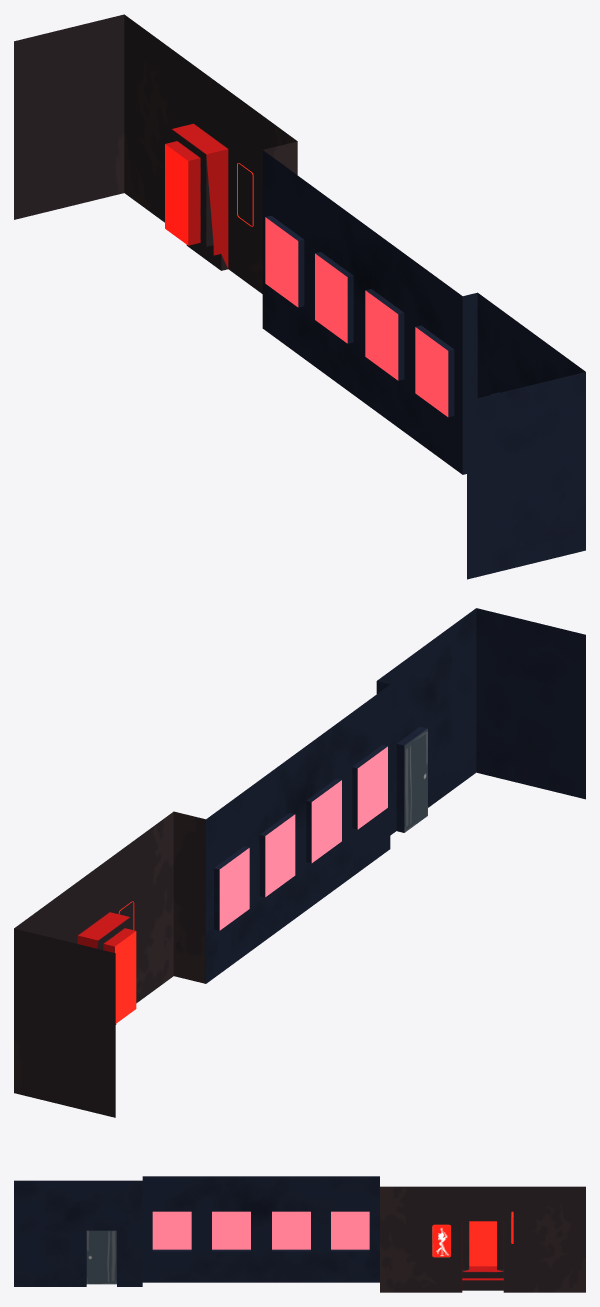
3 views of the same model, one above another, from view 1: azimuth 30°, elevation 25°; view 2: azimuth 150°, elevation 25°; view 3: azimuth 270°, elevation 25° (orthographic). The views are drawn at different scales.
Parts seen in each view (by area): view 1: buildings_tile_Bb, luces_tile_Bb; view 2: buildings_tile_Bb, luces_tile_Bb; view 3: buildings_tile_Bb, luces_tile_Bb.
Boxes of the visible parts, <box> form: buildings_tile_Bb: <box>14,14,585,579</box>; luces_tile_Bb: <box>165,144,448,416</box>; buildings_tile_Bb: <box>14,608,585,1117</box>; luces_tile_Bb: <box>115,746,387,1023</box>; buildings_tile_Bb: <box>14,1176,585,1292</box>; luces_tile_Bb: <box>152,1211,513,1266</box>.
Bounding box in the file's own units: 5.76 × 6.14 × 30.
